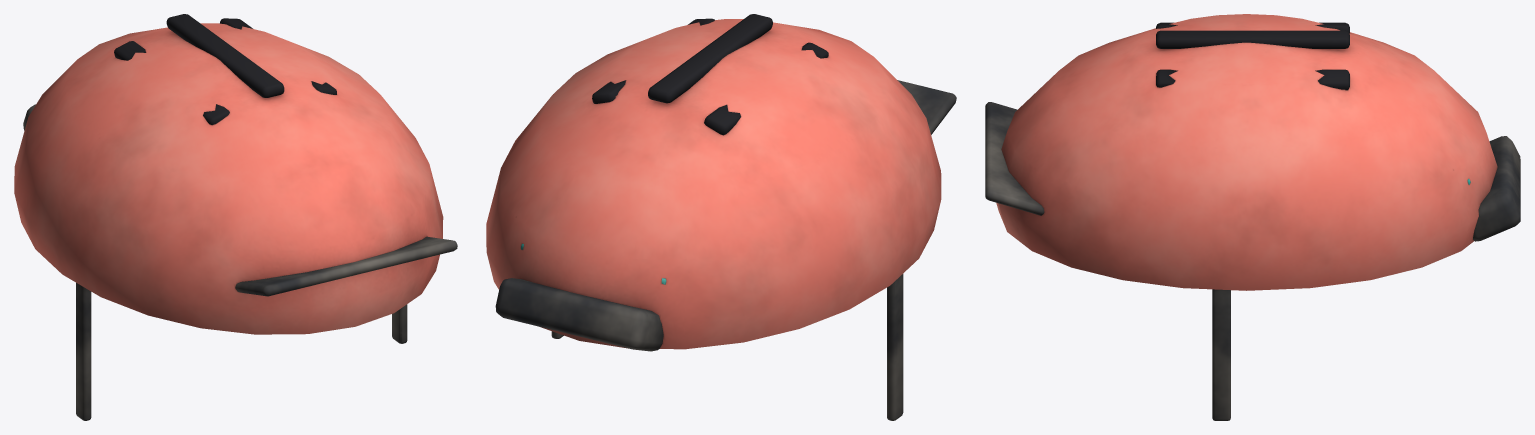
File: bike_helmet.fbx
The picture shows the model from 3 angles, left to right: view 1: azimuth 30°, elevation 25°; view 2: azimuth 150°, elevation 25°; view 3: azimuth 270°, elevation 25°; orthographic projection. The views are drawn at different scales.
Visible parts, largest first — view 1: Body; view 2: Body; view 3: Body.
Part boxes in pixels (x1,y1,x2,y2): Body: (14,14,457,420); Body: (486,14,956,420); Body: (985,14,1520,420).
Size of the model in its own units: 1.24 by 1.1 by 1.71.
Materials: 1 (1 with a texture image).
